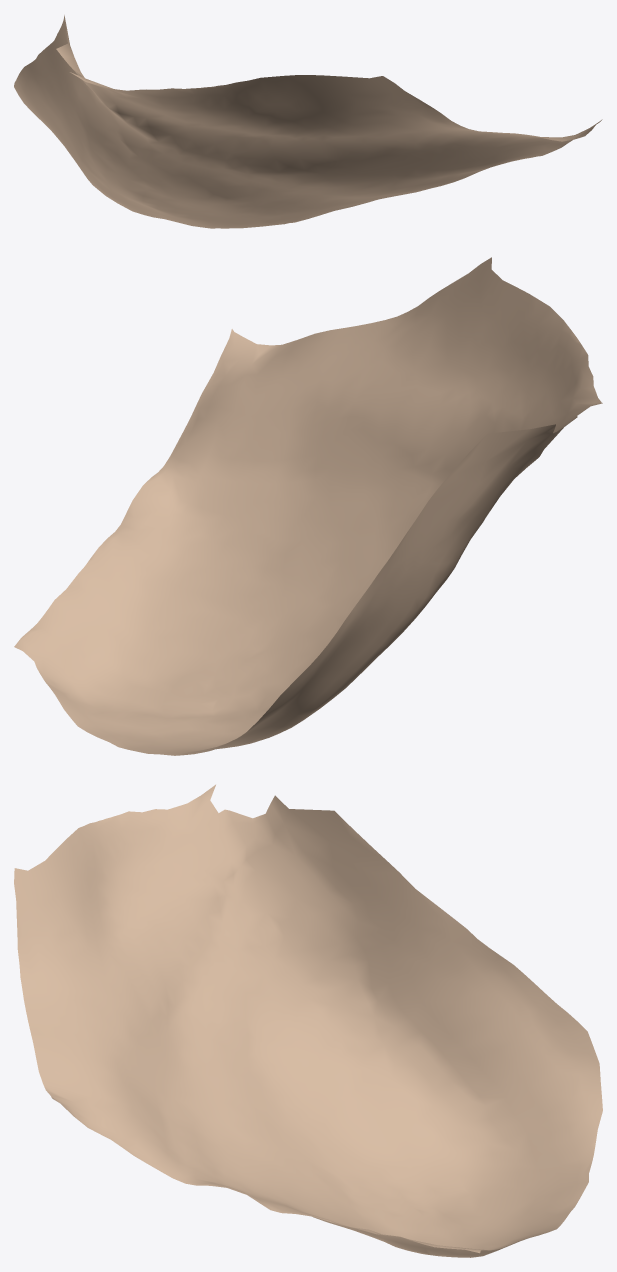
3 views of the same model, one above another, from view 1: azimuth 30°, elevation 25°; view 2: azimuth 150°, elevation 25°; view 3: azimuth 270°, elevation 25° (orthographic).
Visible parts, largest first — view 1: 右侧胸肌筋膜; view 2: 右侧胸肌筋膜; view 3: 右侧胸肌筋膜.
Boxes of the visible parts, x1,y1,x2,y2 form: 右侧胸肌筋膜: (14,15,602,228); 右侧胸肌筋膜: (14,257,602,755); 右侧胸肌筋膜: (14,784,602,1257).
Bounding box in the file's own units: 0.2538 × 0.1701 × 0.2901.
